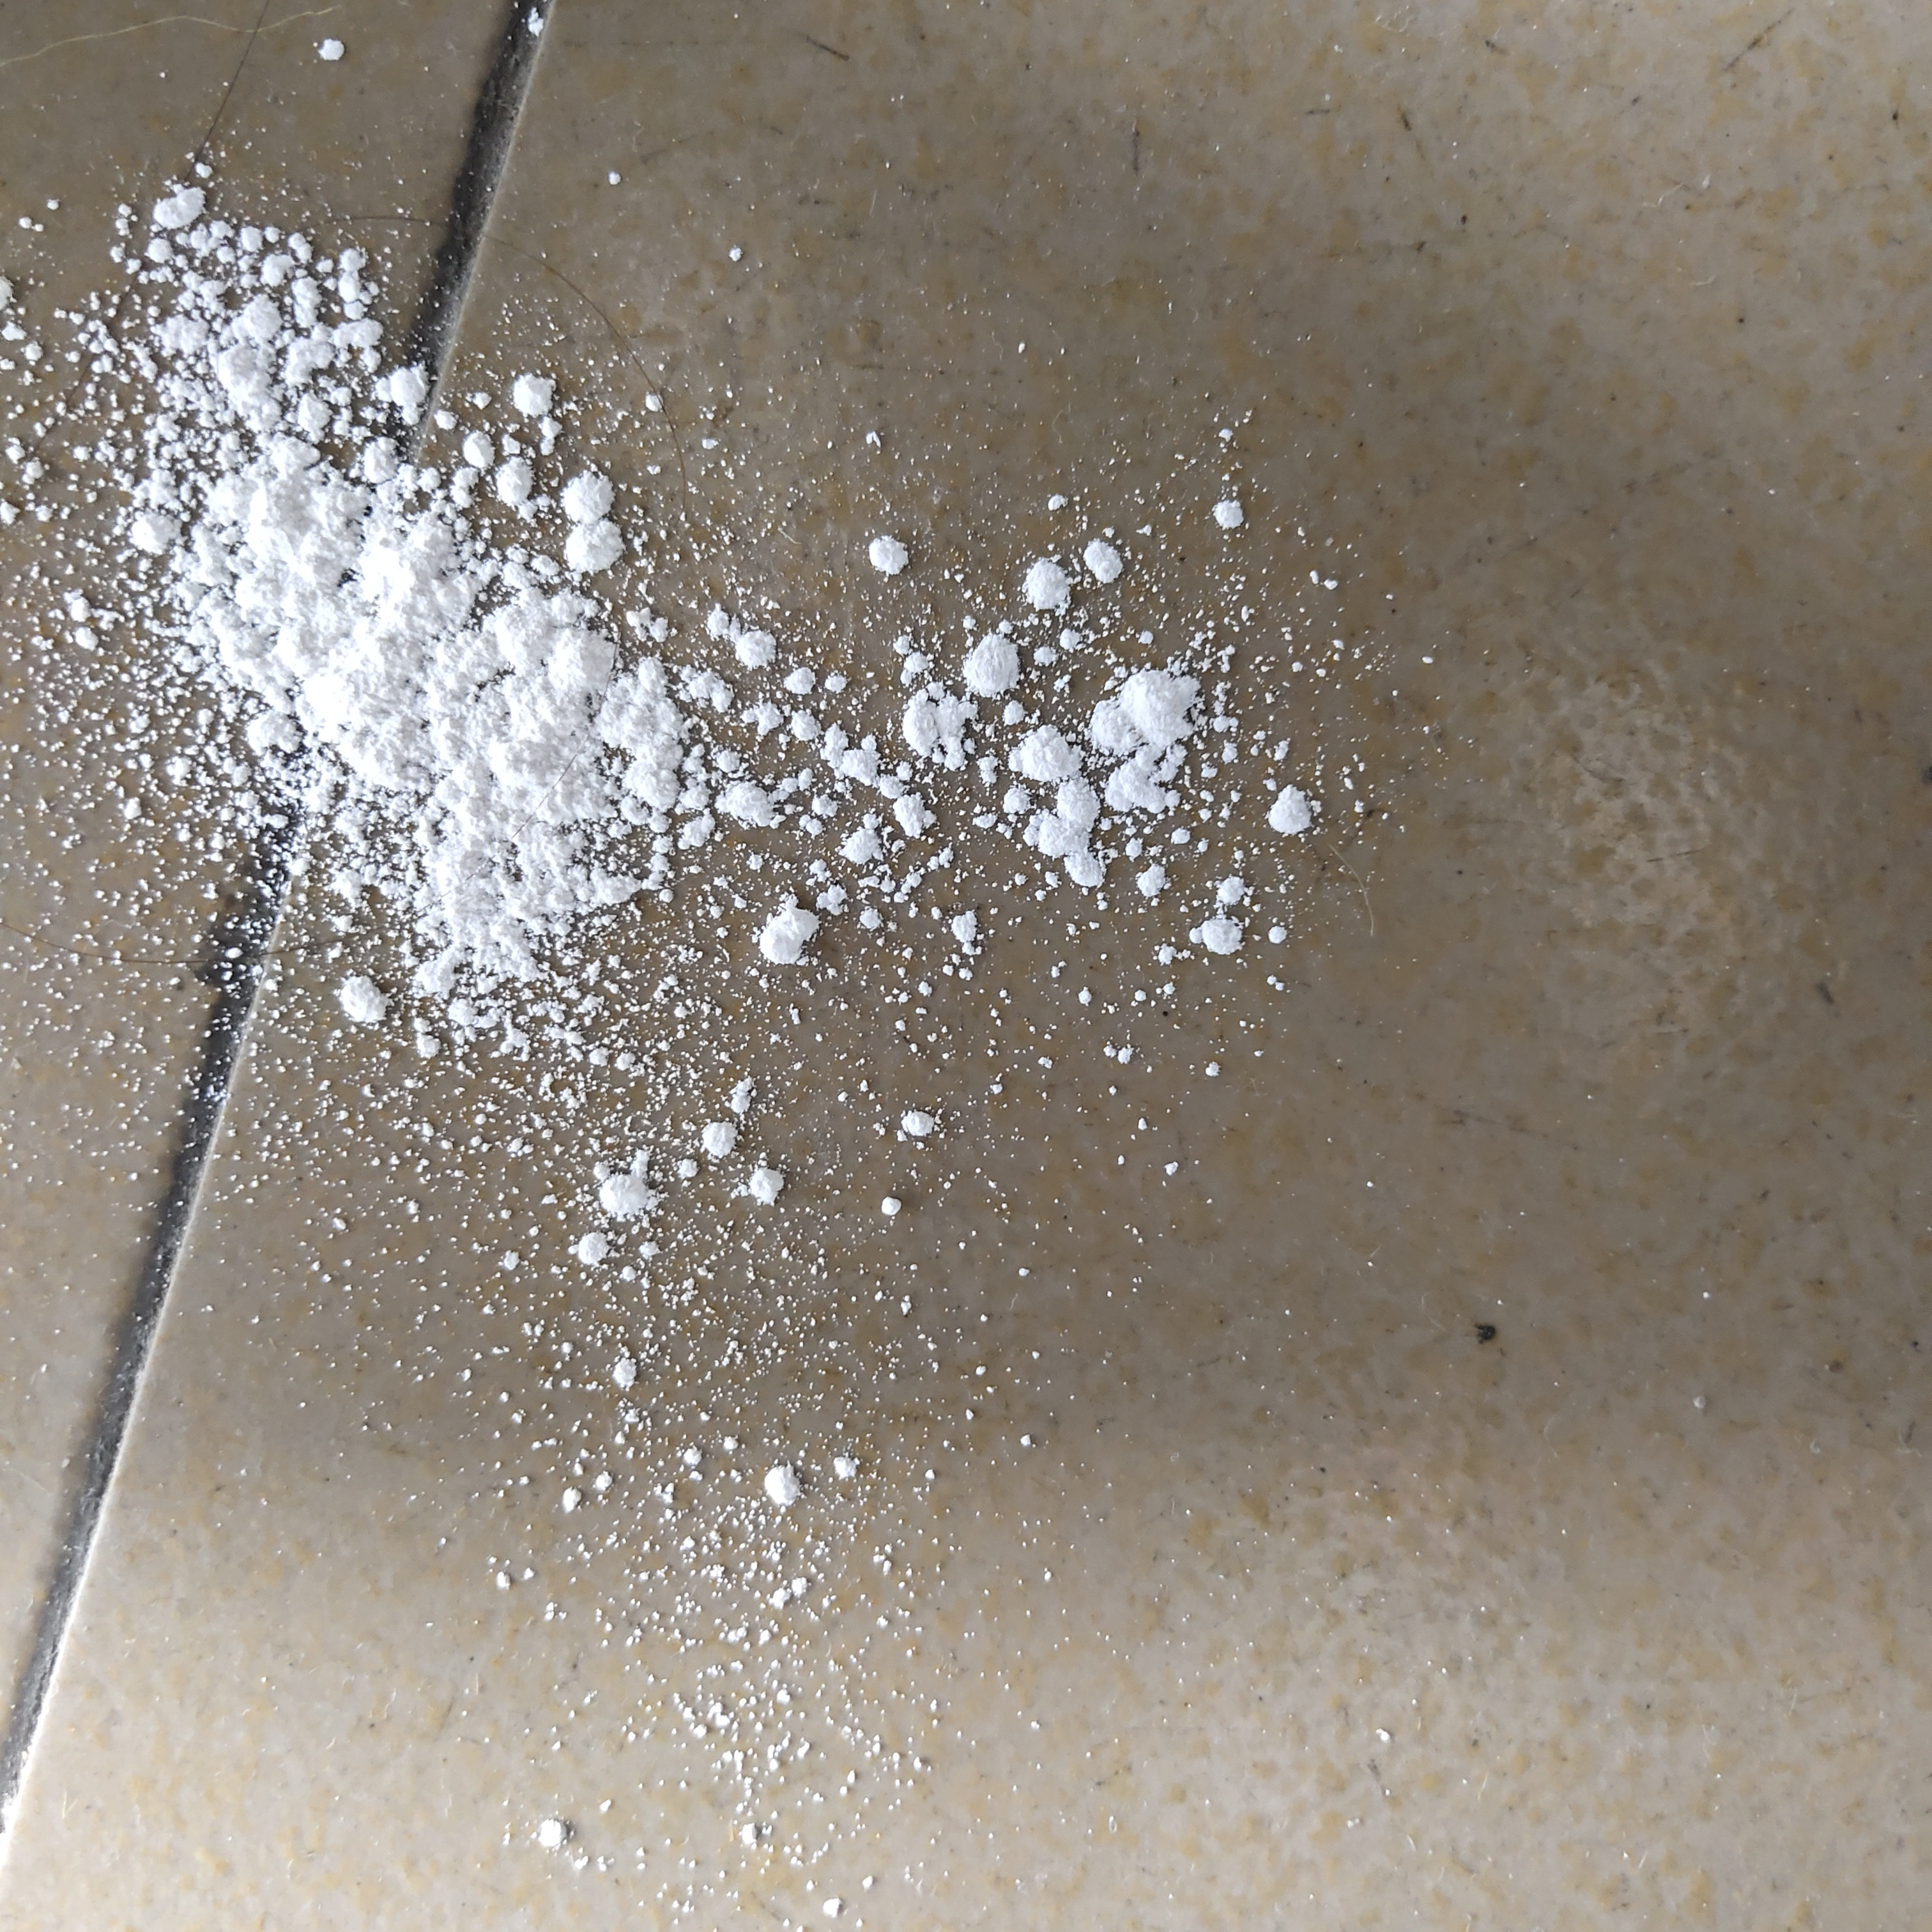ash pile: (4, 37, 1424, 1932)
